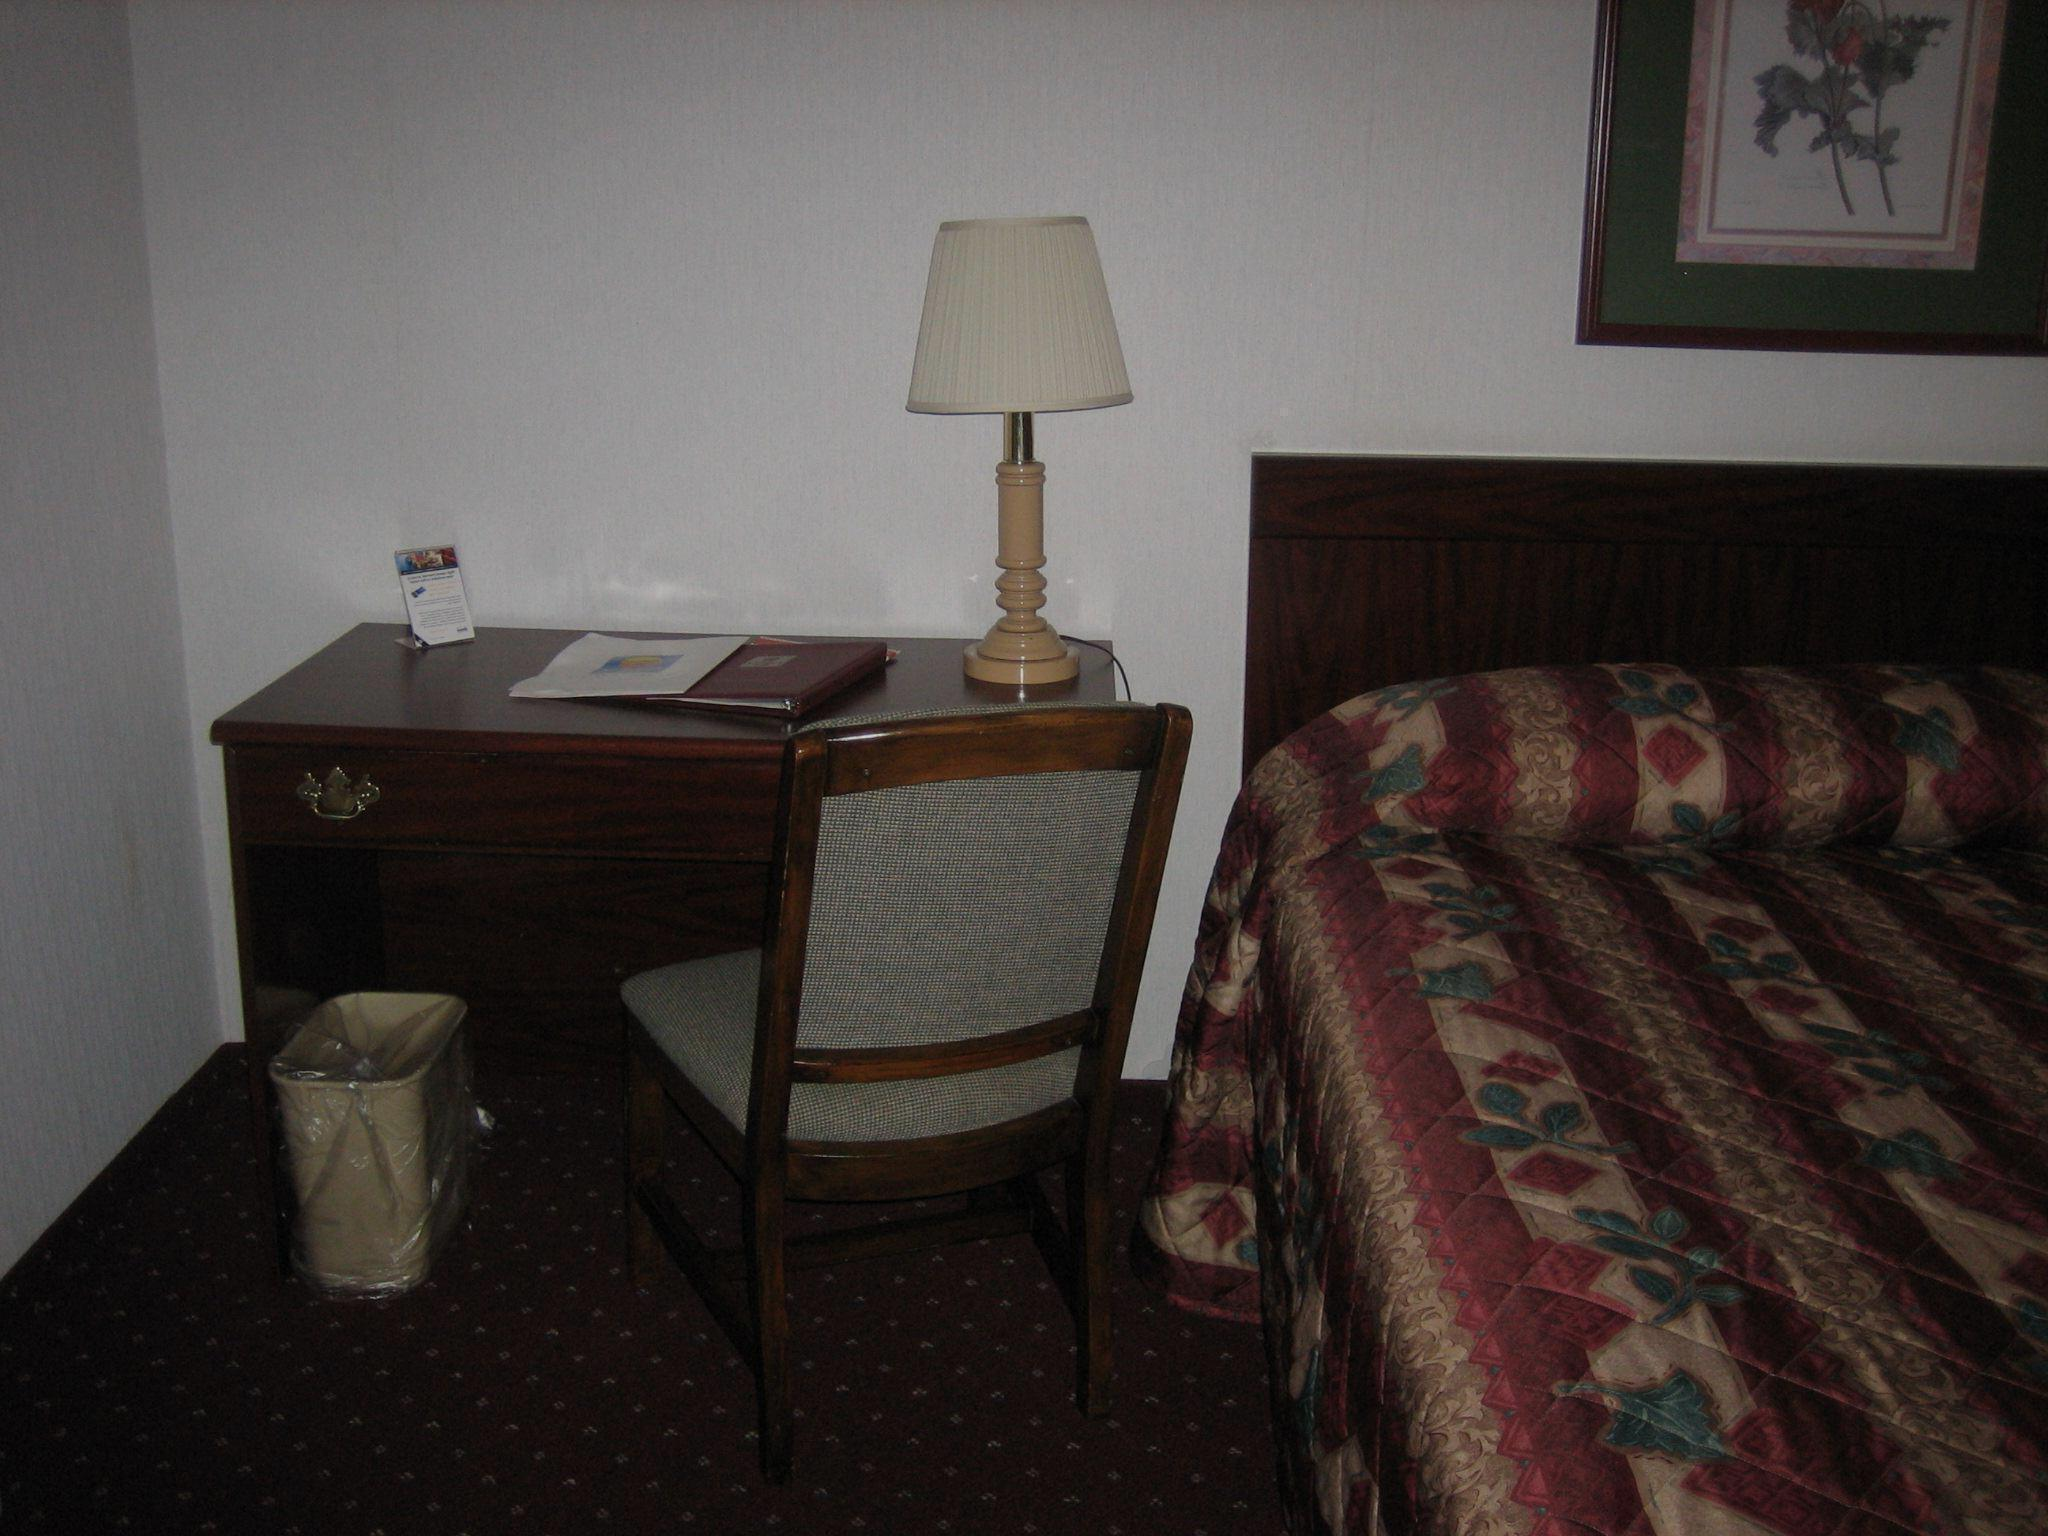Bote de Basura: (273, 942, 498, 1291)
